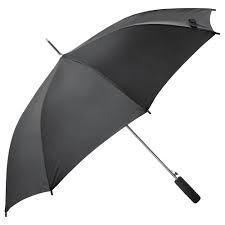Umbrella: (3, 5, 222, 222)
